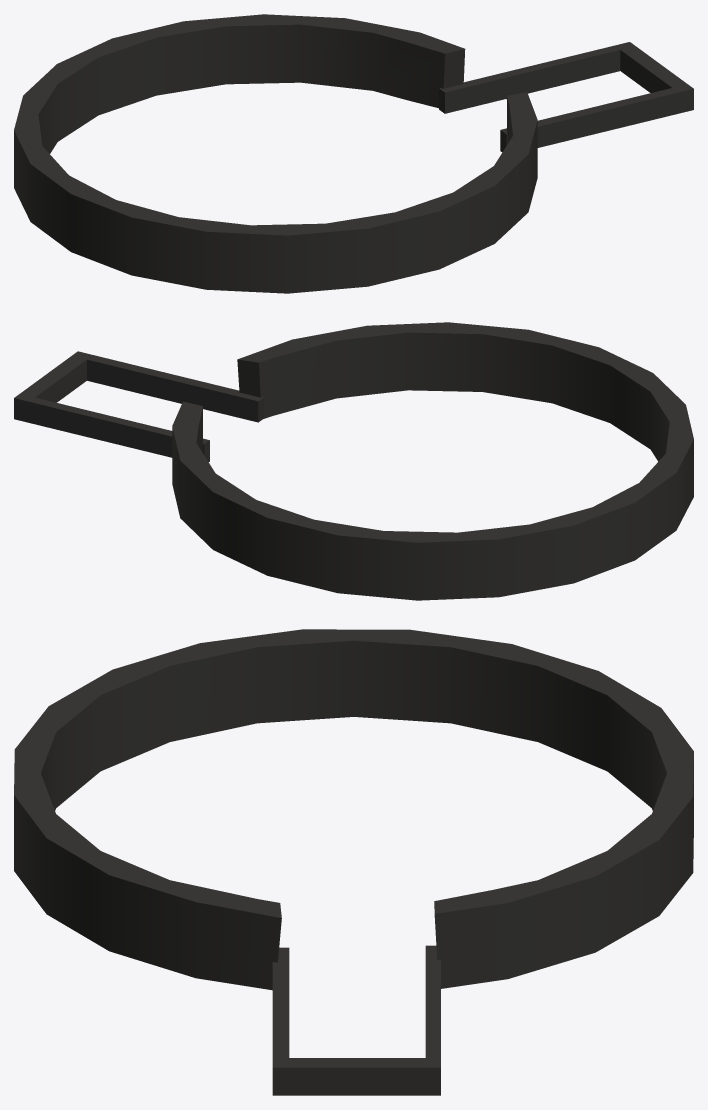
File: baseDomo.obj
3 views of the same model, one above another, from view 1: azimuth 30°, elevation 25°; view 2: azimuth 150°, elevation 25°; view 3: azimuth 270°, elevation 25° (orthographic). The views are drawn at different scales.
Visible parts, largest first — view 1: polySurface81 pCylinder6, pCube5; view 2: polySurface81 pCylinder6, pCube5; view 3: polySurface81 pCylinder6, pCube5.
Boxes of the visible parts, x1,y1,x2,y2 form: polySurface81 pCylinder6: (14, 14, 537, 293); pCube5: (439, 42, 693, 152); polySurface81 pCylinder6: (172, 322, 693, 600); pCube5: (14, 351, 264, 461); polySurface81 pCylinder6: (14, 629, 693, 990); pCube5: (272, 945, 440, 1095).
Size of the model in its own units: 20.06 by 1.82 by 14.72.
Materials: 1 (1 with a texture image).
